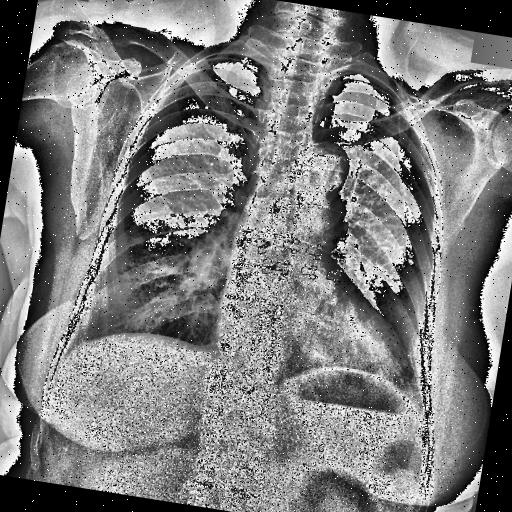0- Aortic enlargement: (286, 132, 354, 218), (286, 134, 354, 202), (286, 136, 352, 194)
3- Cardiomegaly: (208, 288, 420, 398), (206, 294, 412, 406), (201, 302, 420, 402)
